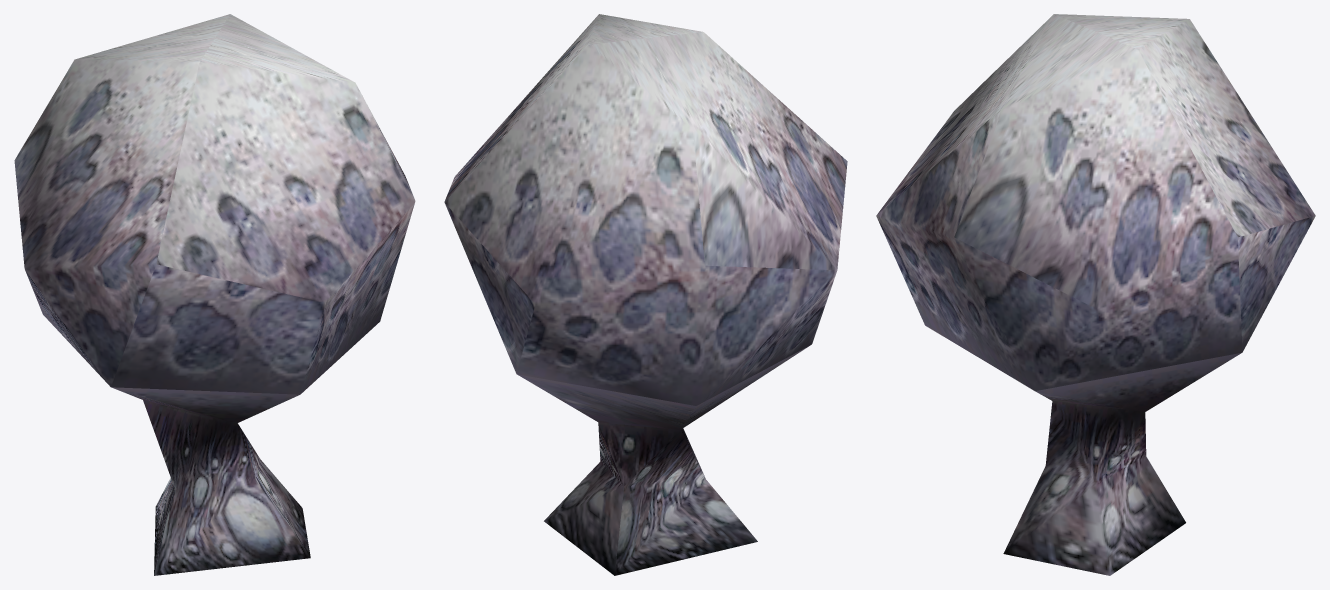
The model's file is grenade_fungus_l1.fbx.
3 views of the same model, side by side, from view 1: azimuth 30°, elevation 25°; view 2: azimuth 150°, elevation 25°; view 3: azimuth 270°, elevation 25° (orthographic).
Visible parts, largest first — view 1: mesh_node; view 2: mesh_node; view 3: mesh_node.
Part boxes in pixels (<box>): mesh_node: <box>14,14,415,575</box>; mesh_node: <box>444,14,847,575</box>; mesh_node: <box>876,14,1315,575</box>.
Bounding box in the file's own units: 0.5623 × 0.7028 × 0.5623.
